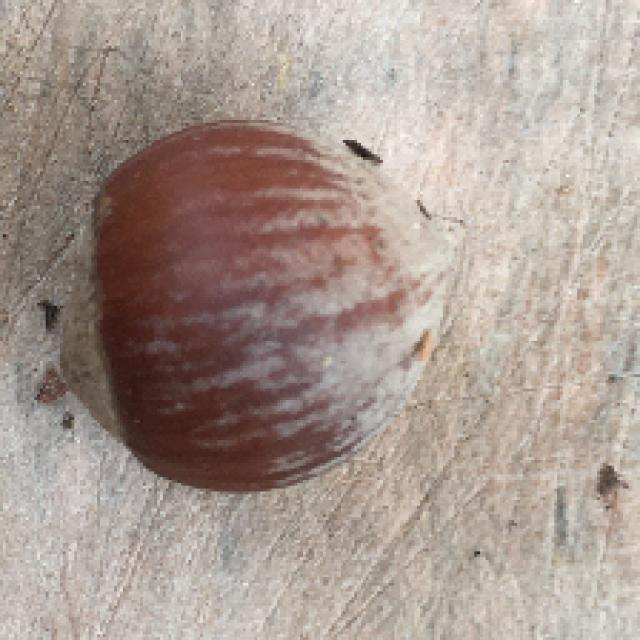damagedHazelnut: (37, 115, 471, 494)
